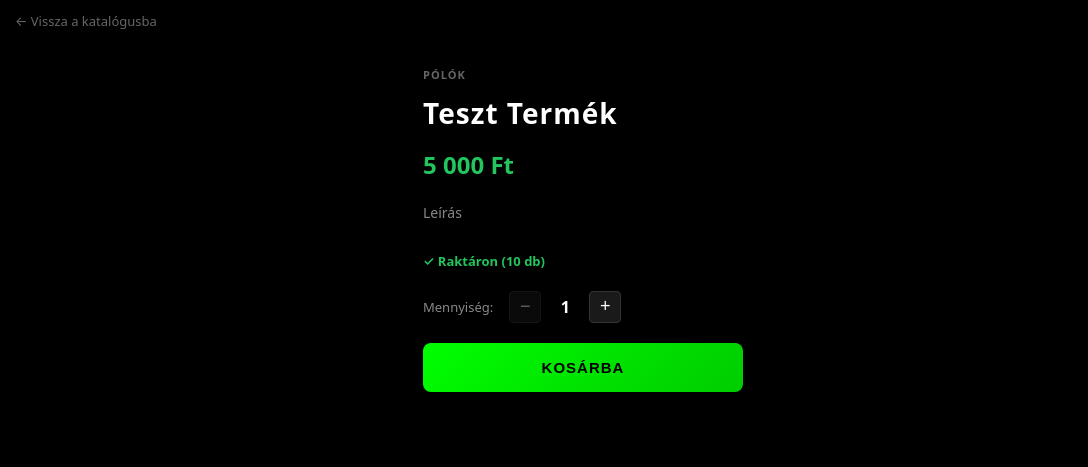
it: <TermekReszlet /> › bejelentkezve "Kosárba" sikeres visszajelzés
Expected: the heading "Teszt Termék" is shown, [423, 94, 618, 132]
Click the button "Kosárba" at [583, 367], box [423, 343, 743, 392]
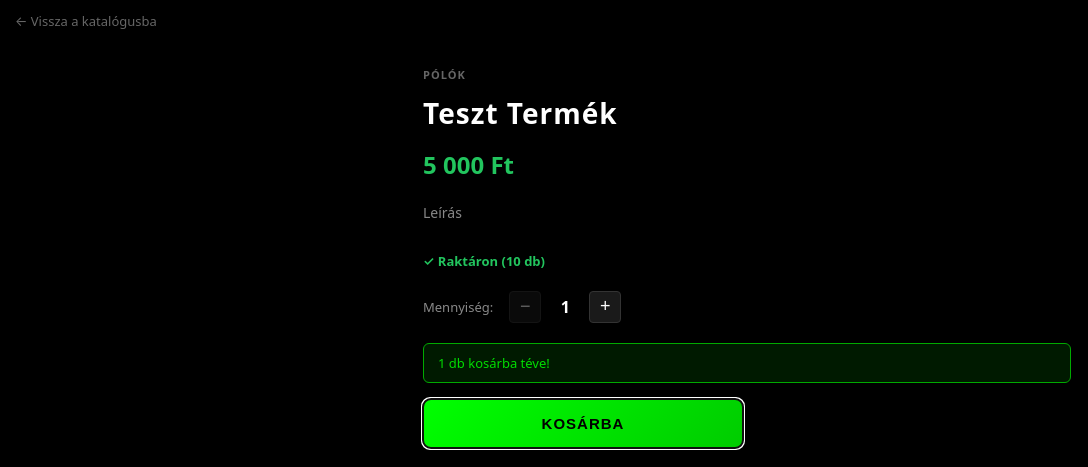
Now the text "1 db kosárba téve!" is shown, box [423, 343, 1071, 383]
